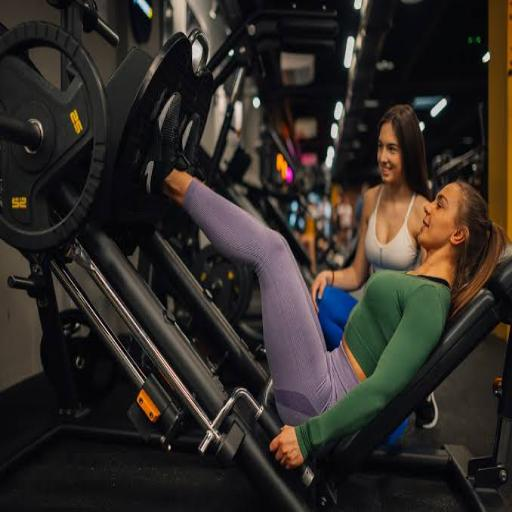Leg Press: (9, 32, 502, 435)
